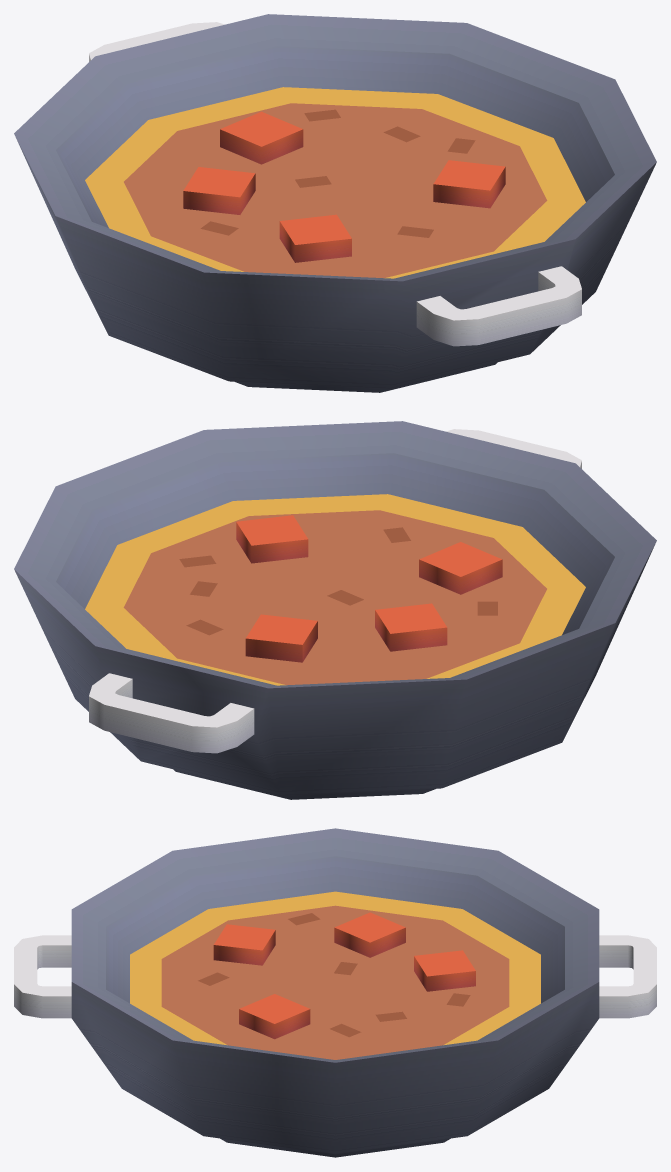
Rendered from pan-stew.glb.
The picture shows the model from 3 angles, top to bottom: view 1: azimuth 30°, elevation 25°; view 2: azimuth 150°, elevation 25°; view 3: azimuth 270°, elevation 25°; orthographic projection. The views are drawn at different scales.
Parts seen in each view (by area): view 1: pan-stew; view 2: pan-stew; view 3: pan-stew.
Part boxes in pixels (<box>): pan-stew: <box>14,14,656,392</box>; pan-stew: <box>14,421,656,799</box>; pan-stew: <box>14,828,656,1157</box>.
Bounding box in the file's own units: 0.6574 × 0.1754 × 0.7621.
Materials: 1 (1 with a texture image).
